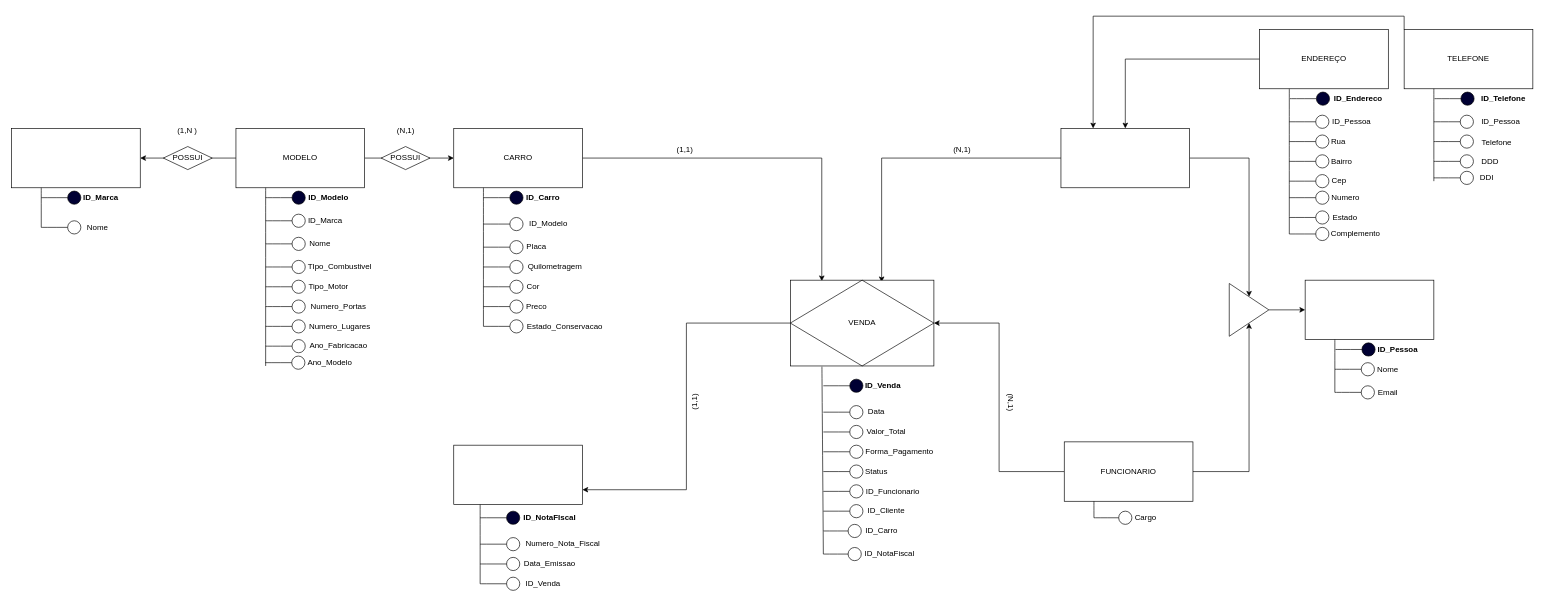
Image size: 1544x605. Some labels were removed from this diagram. The box of each missing label's shape, as (x1, y1, x2, y2) in pixels:
CLIENTE: (1060, 128, 1190, 188)
MARCA: (11, 128, 140, 188)
NOTA FISCAL: (453, 445, 582, 505)
PESSOA: (1304, 280, 1434, 340)
